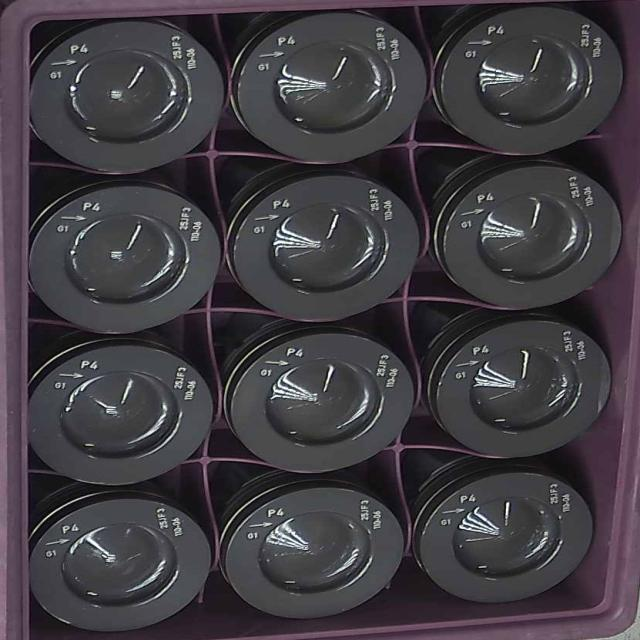P4: (234, 17, 433, 168), (443, 10, 633, 157), (231, 177, 423, 322), (422, 474, 614, 618), (30, 187, 221, 331), (33, 28, 215, 170), (226, 332, 414, 469), (224, 486, 410, 624), (436, 168, 622, 305), (33, 346, 214, 486), (439, 323, 618, 464), (33, 500, 217, 634)
